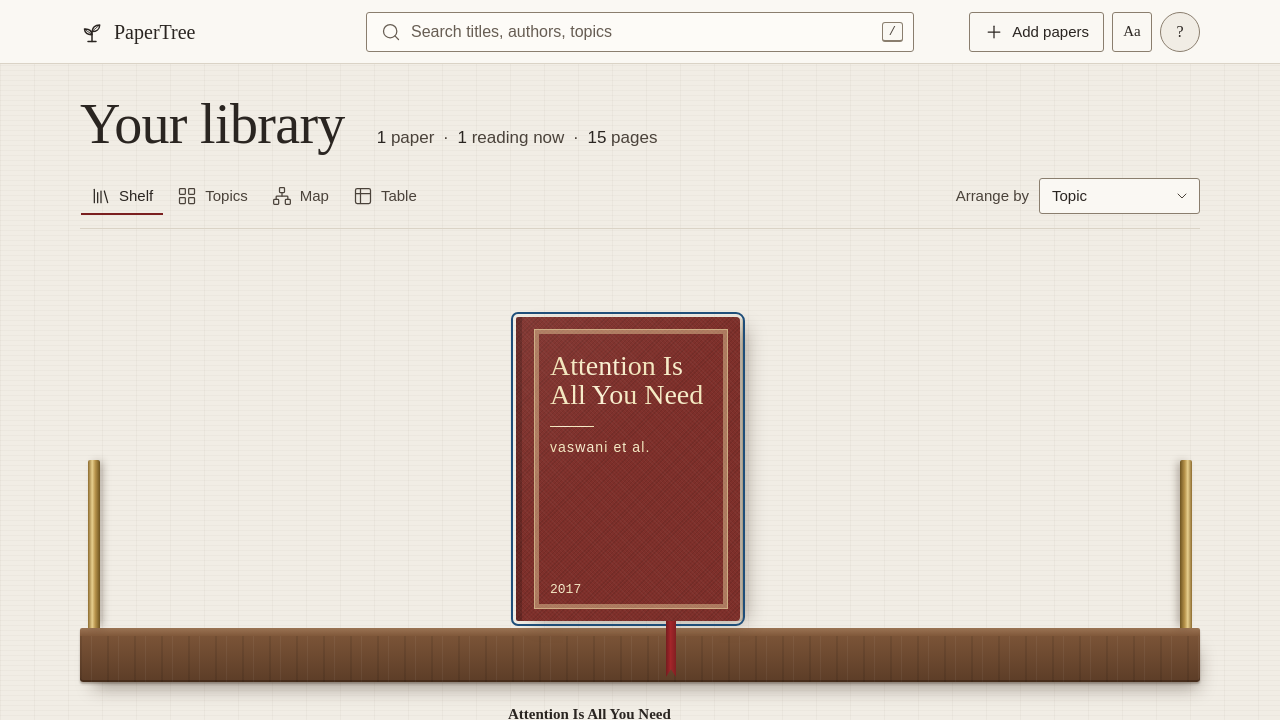
Test: the bookplate › after Not now leaves the line out, and does not ask again
Press Enter in the button "Attention Is All You Need Vaswani et al. 2017", box [516,317,740,621]
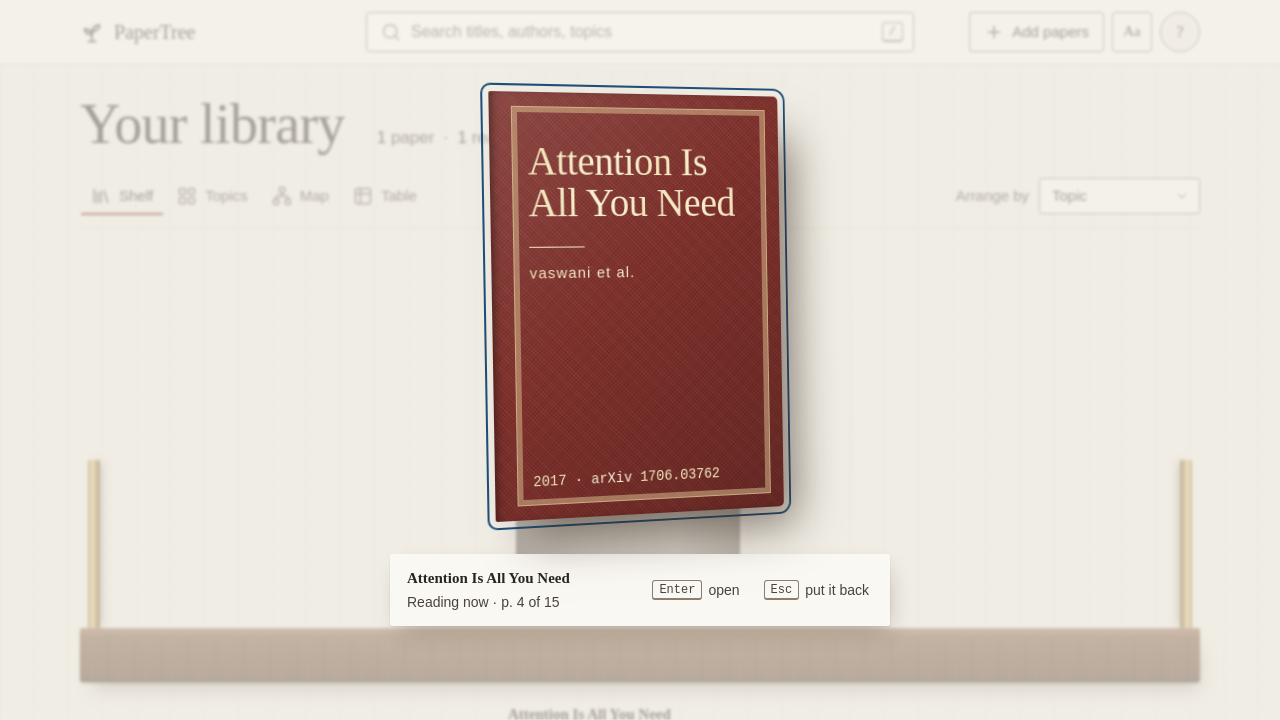
Click the button with aria-label "Open Attention Is All You Need".
click(636, 307)  # box [488,91,784,522]
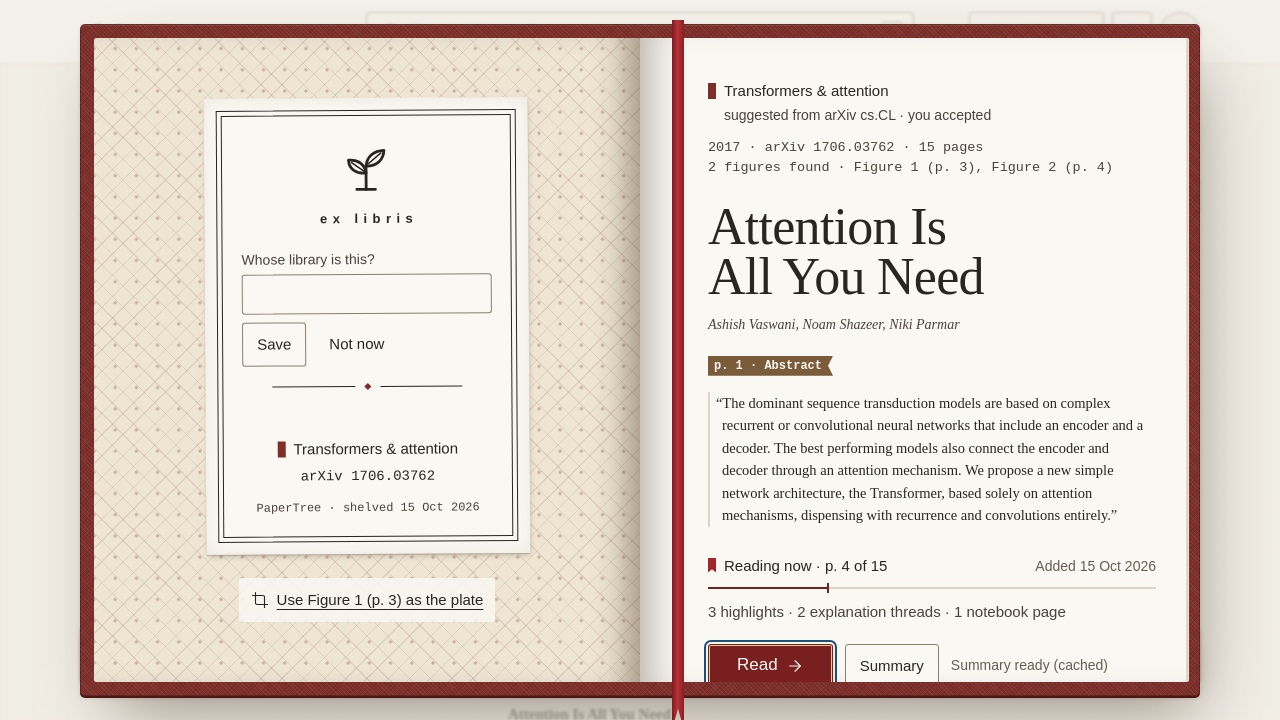
Result: the dialog named "Attention Is All You Need" has attribute data-book-stage="open"
Click the button "Not now".
click(357, 344)  # box [314,322,400,366]
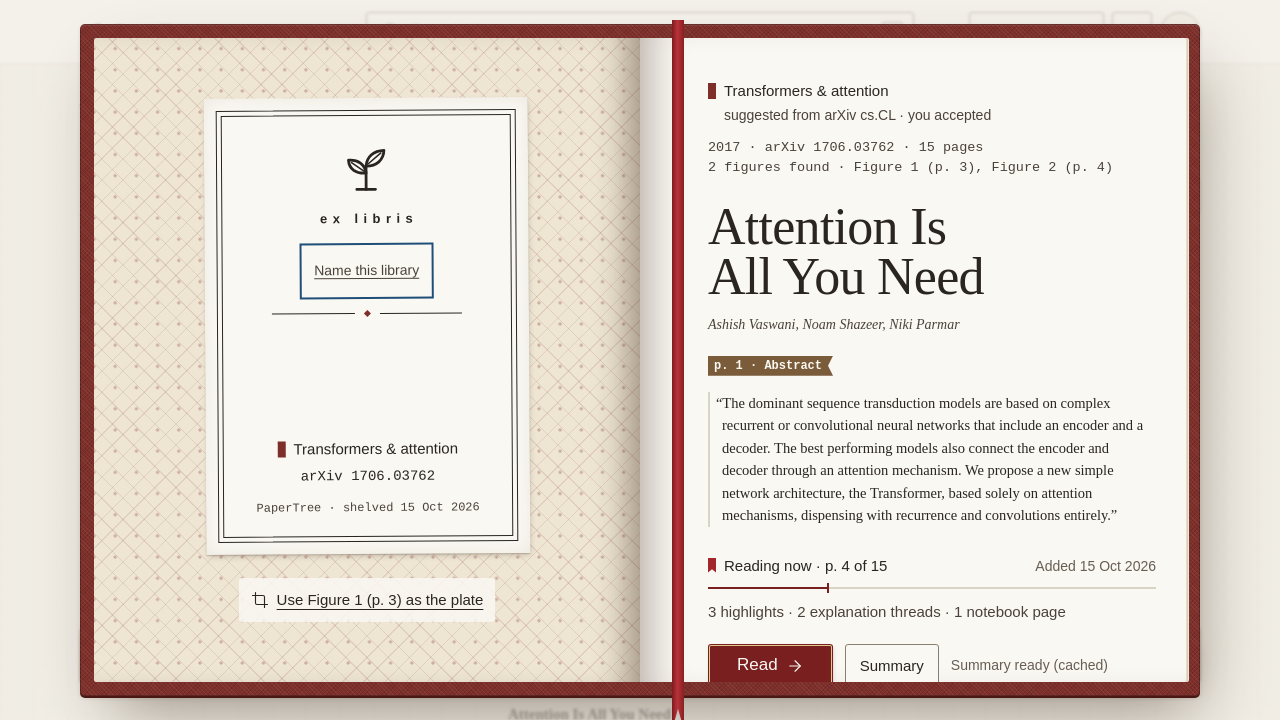
Result: the label labelled "Whose library is this?" is gone
Press Escape in the button "Name this library", box [306,248,427,293]
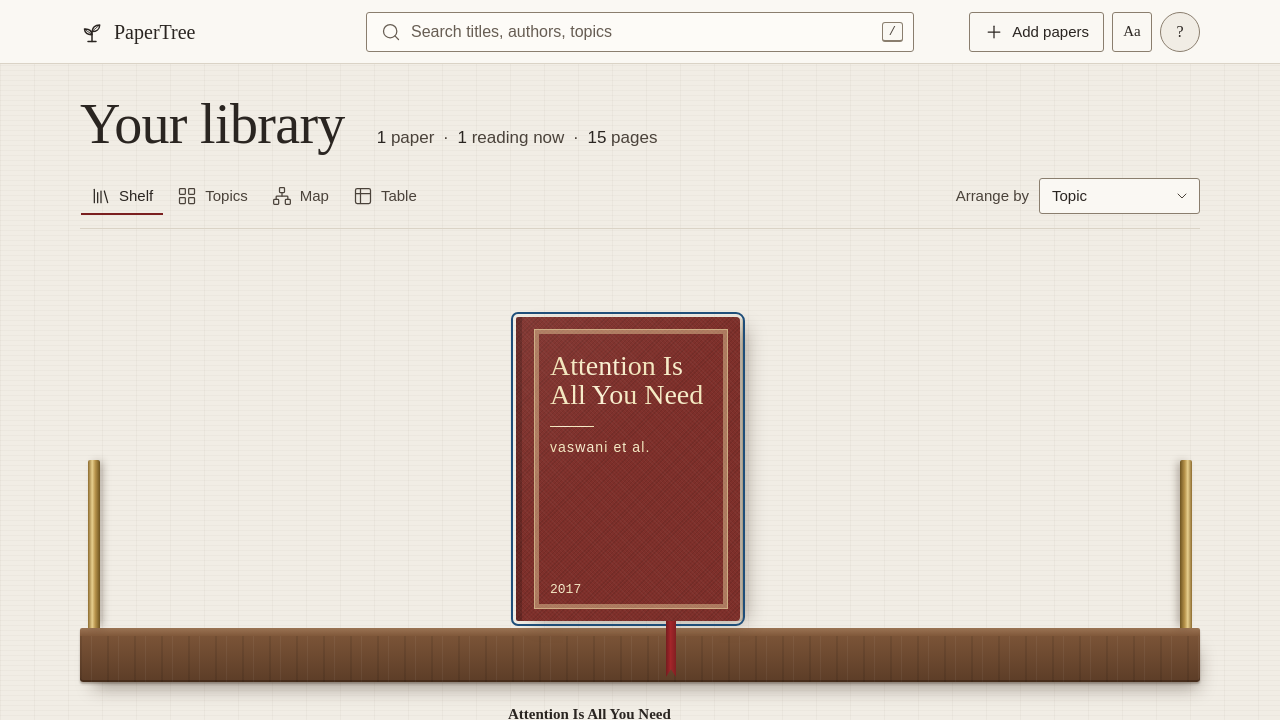
Result: the dialog is gone
Press Enter in the button "Attention Is All You Need Vaswani et al. 2017", box [516,317,740,621]
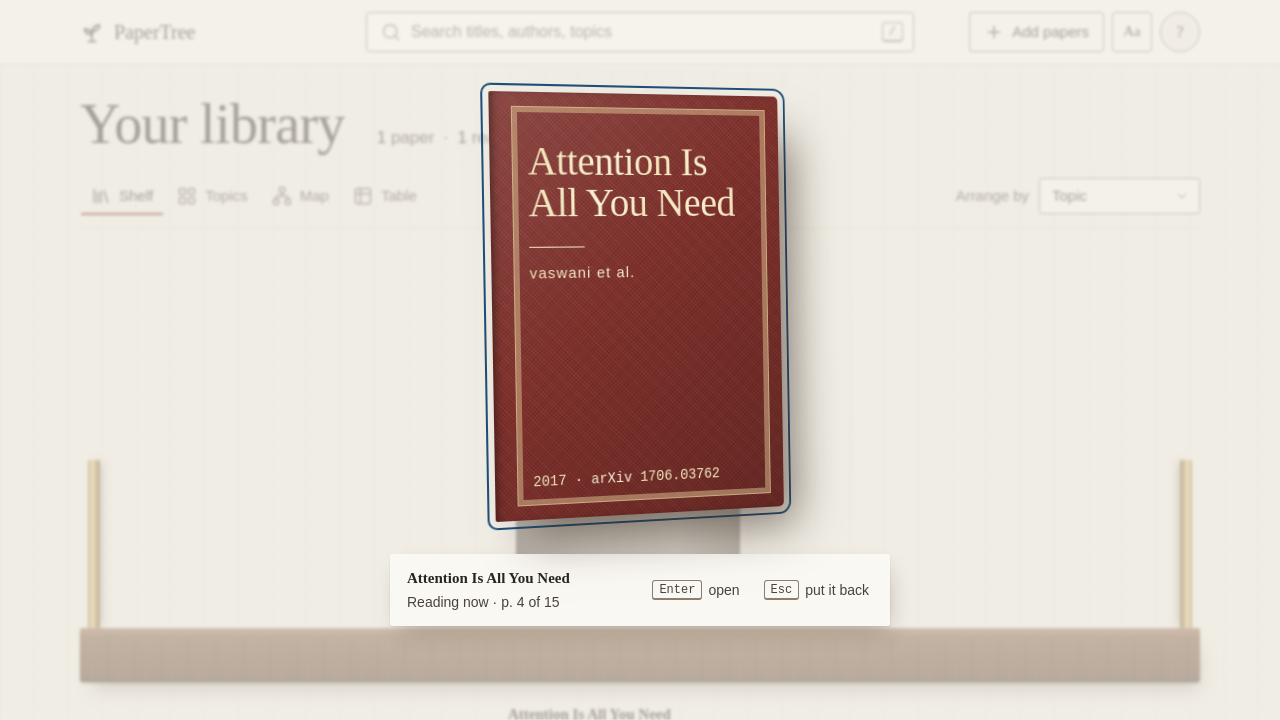
Click the button with aria-label "Open Attention Is All You Need".
click(636, 307)  # box [488,91,784,522]
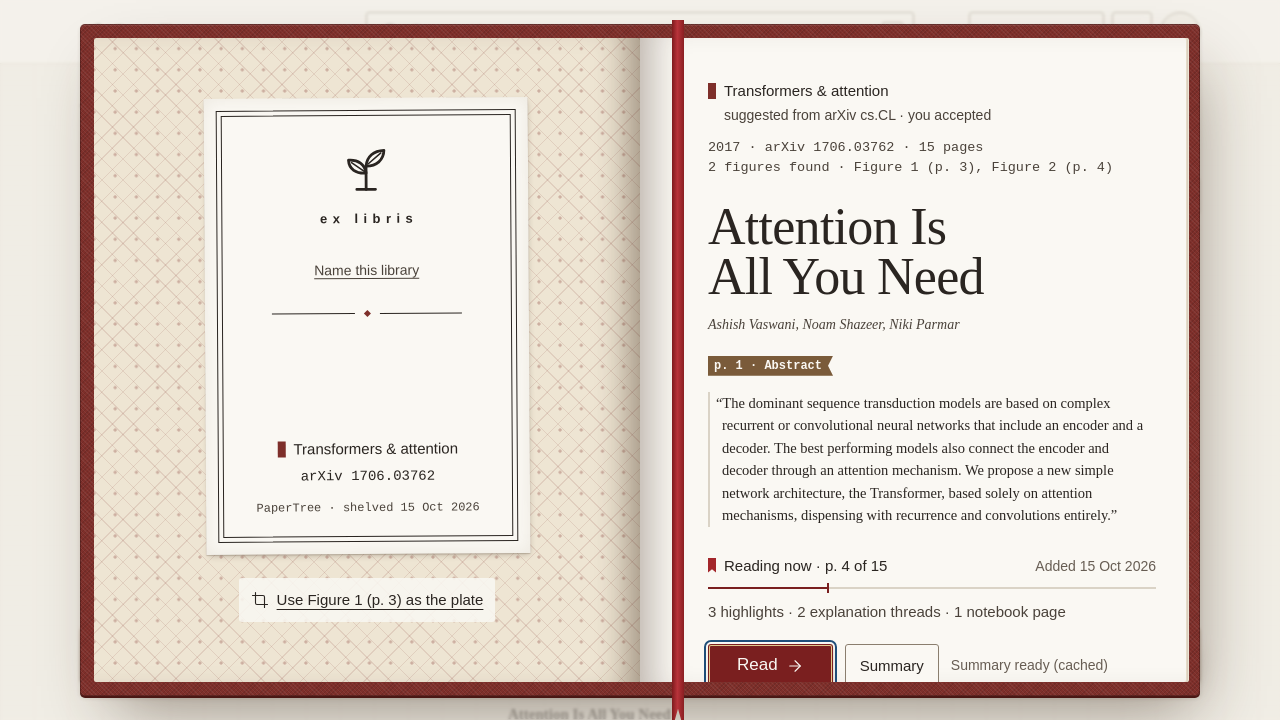
Expected: the label labelled "Whose library is this?" is not shown
Result: the element that starts with "ex libris" is shown at [204,97,530,555]
